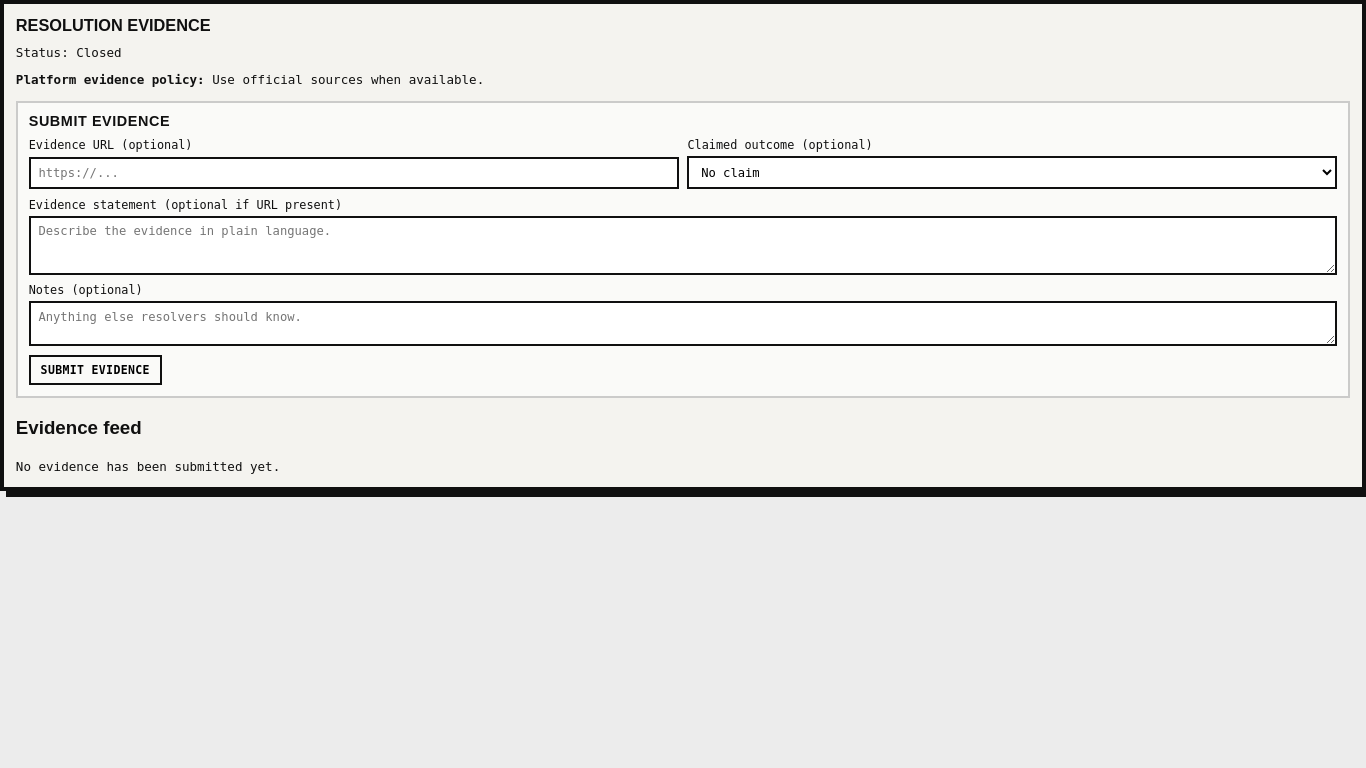
Test case: EvidenceSubmissionCard › submits evidence payloads, resets form state, and reloads on success
Type "https://example.edu/result" into the field labelled "Evidence URL (optional)". click: [354, 173]
box: left=29, top=157, right=678, bottom=189
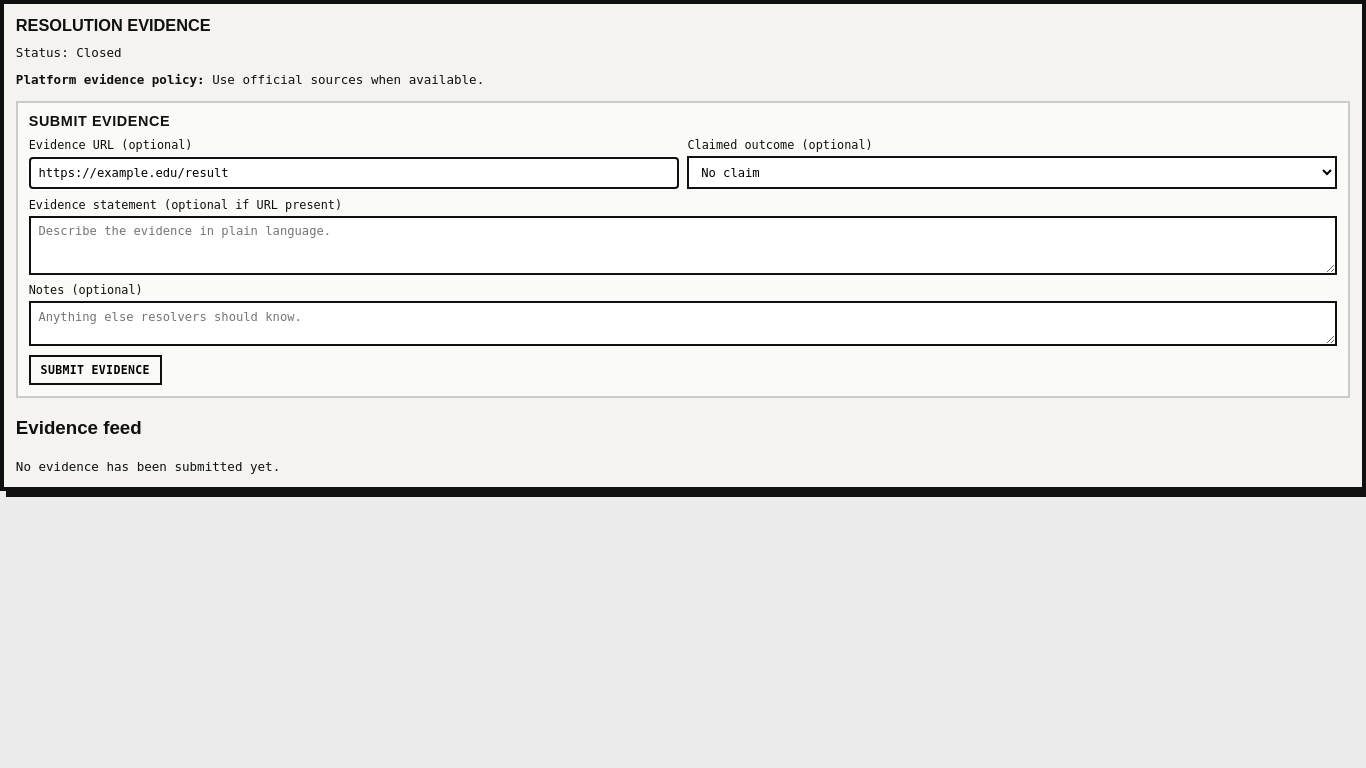
Select "YES" in the dropdown labelled "Claimed outcome (optional)". click: [1012, 173]
box: left=688, top=156, right=1337, bottom=189
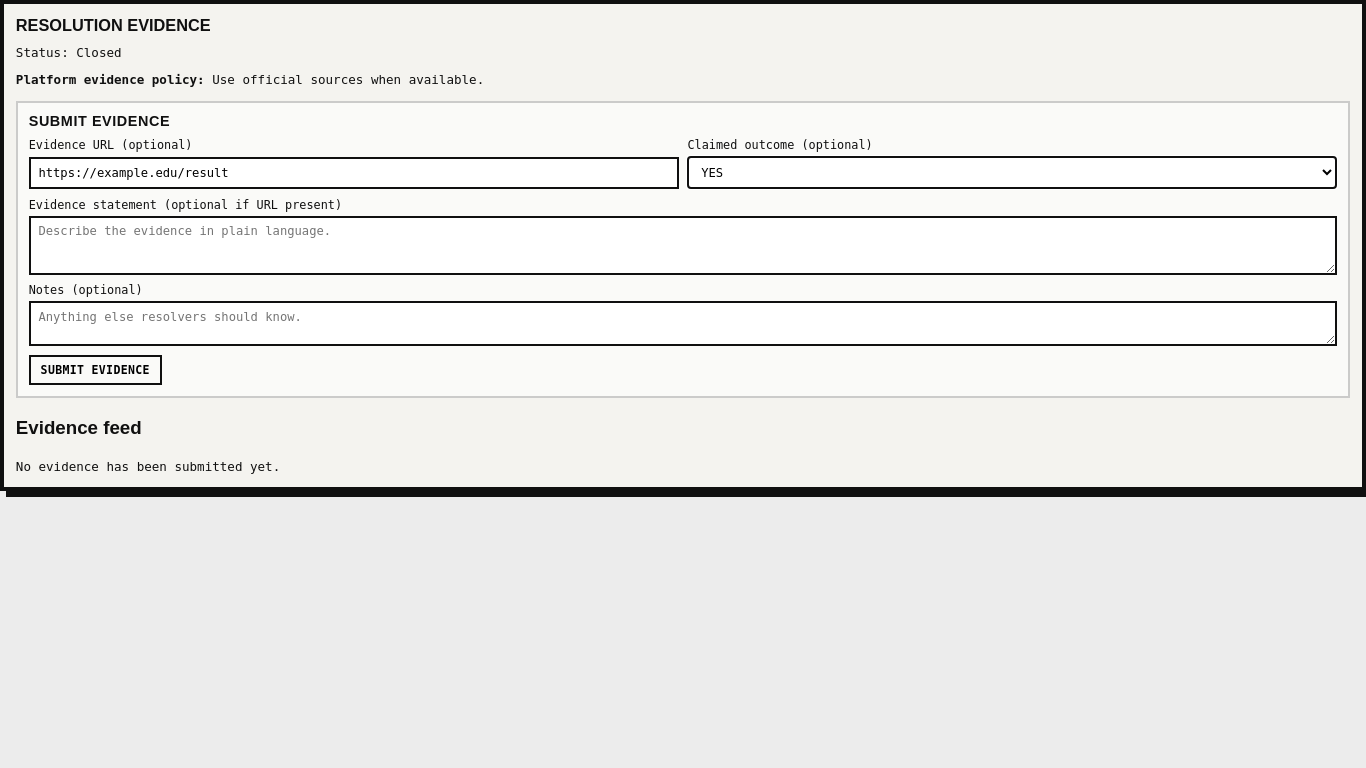
Type "Official page confirms yes." into the text box labelled "Evidence statement (optional if URL present)". click: [683, 245]
box: left=29, top=216, right=1337, bottom=275
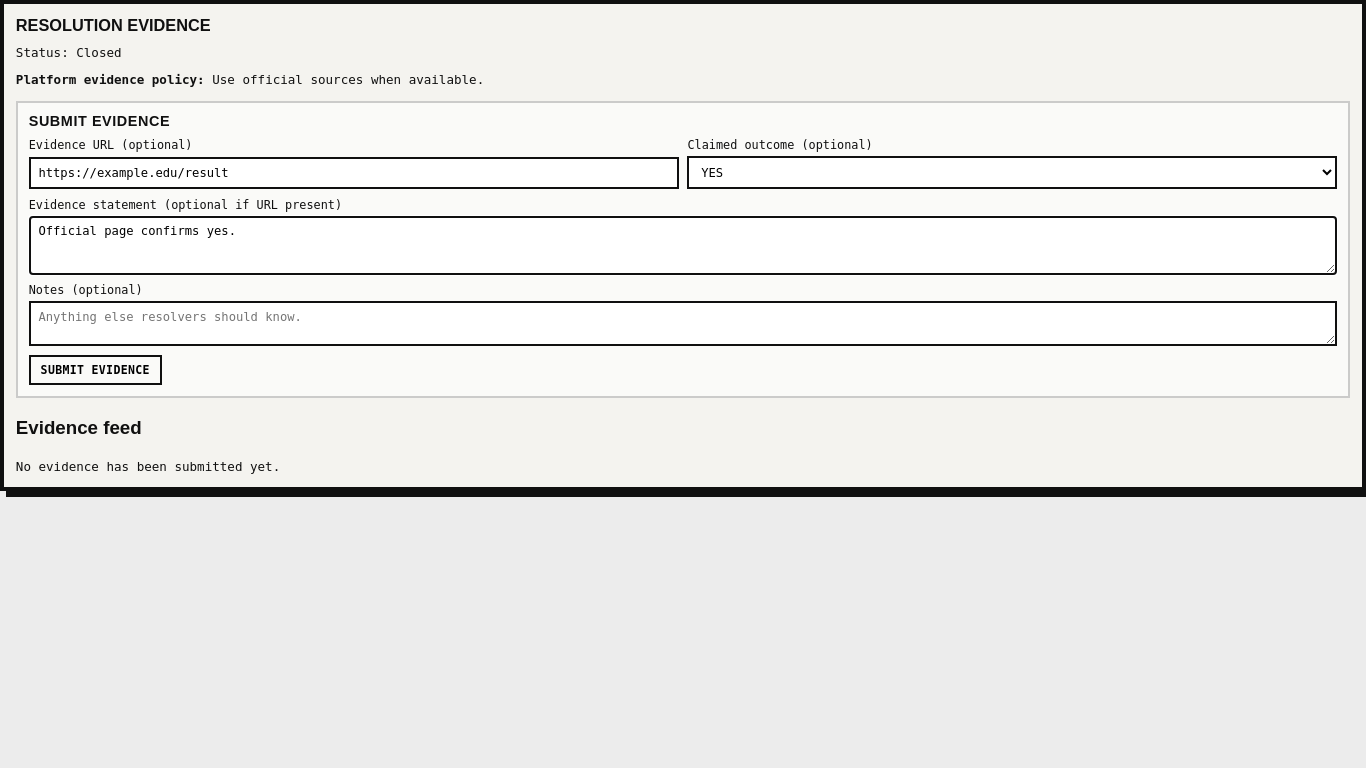
Type "Checked after close." into the text box labelled "Notes (optional)". click: [683, 324]
box: left=29, top=301, right=1337, bottom=346
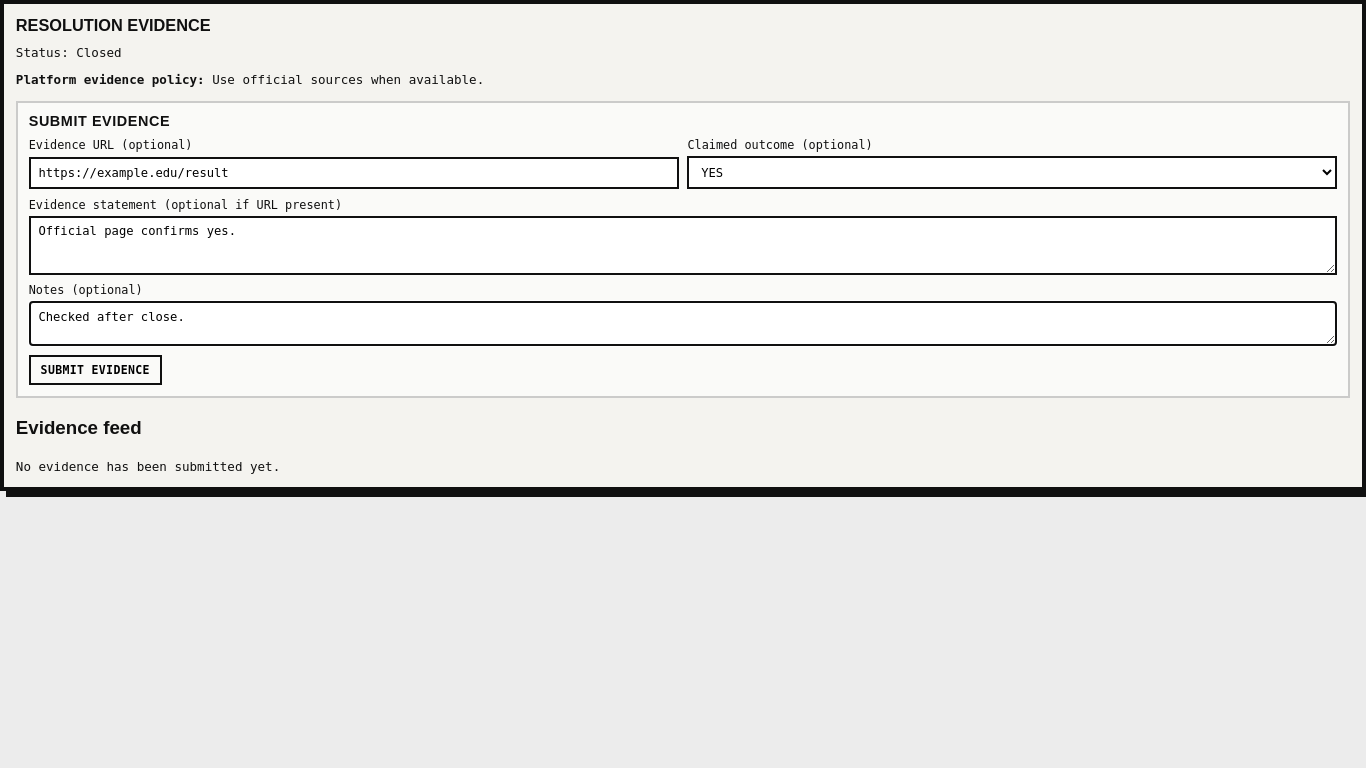
Click the button "Submit evidence". click: [95, 370]
box: left=29, top=355, right=162, bottom=385
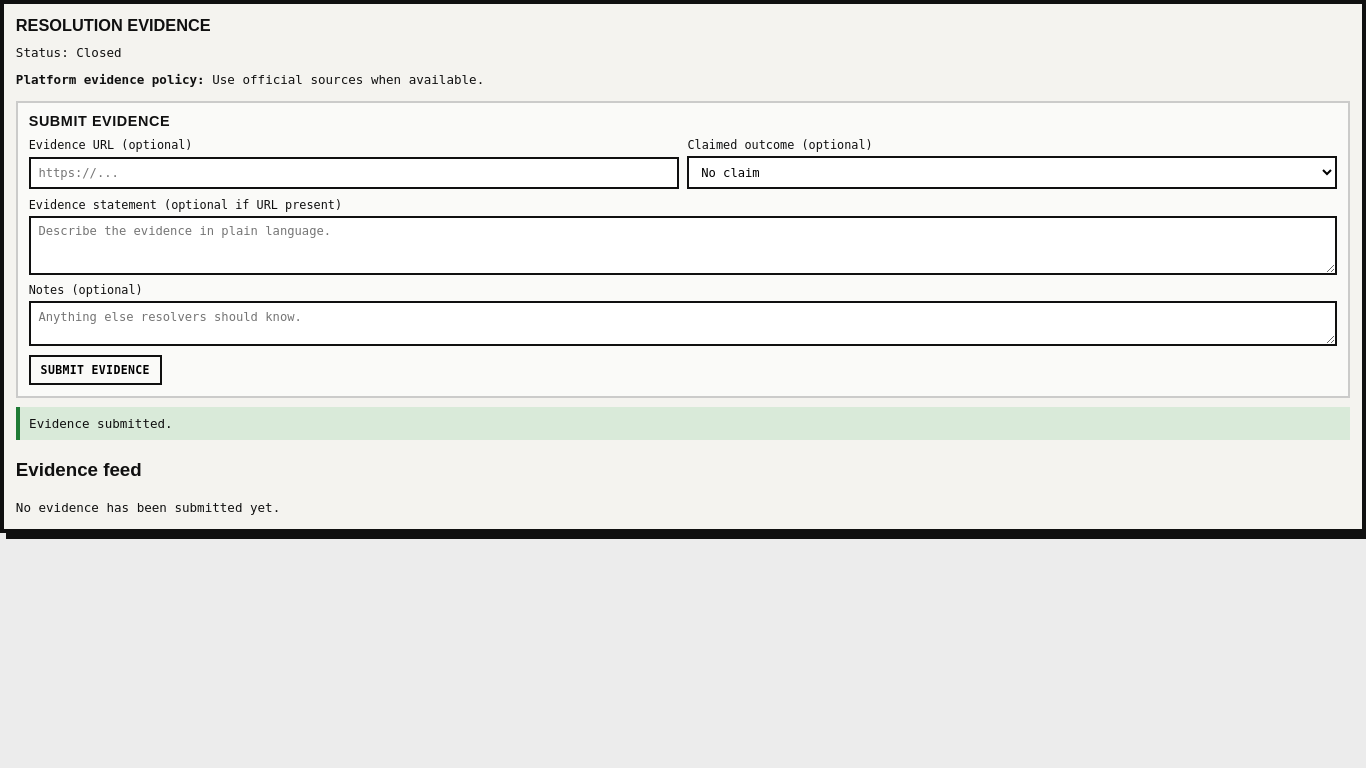
Check: the text "Evidence submitted." is shown, box left=16, top=407, right=1350, bottom=440
Check: the field labelled "Evidence URL (optional)" is empty, box left=29, top=157, right=678, bottom=189
